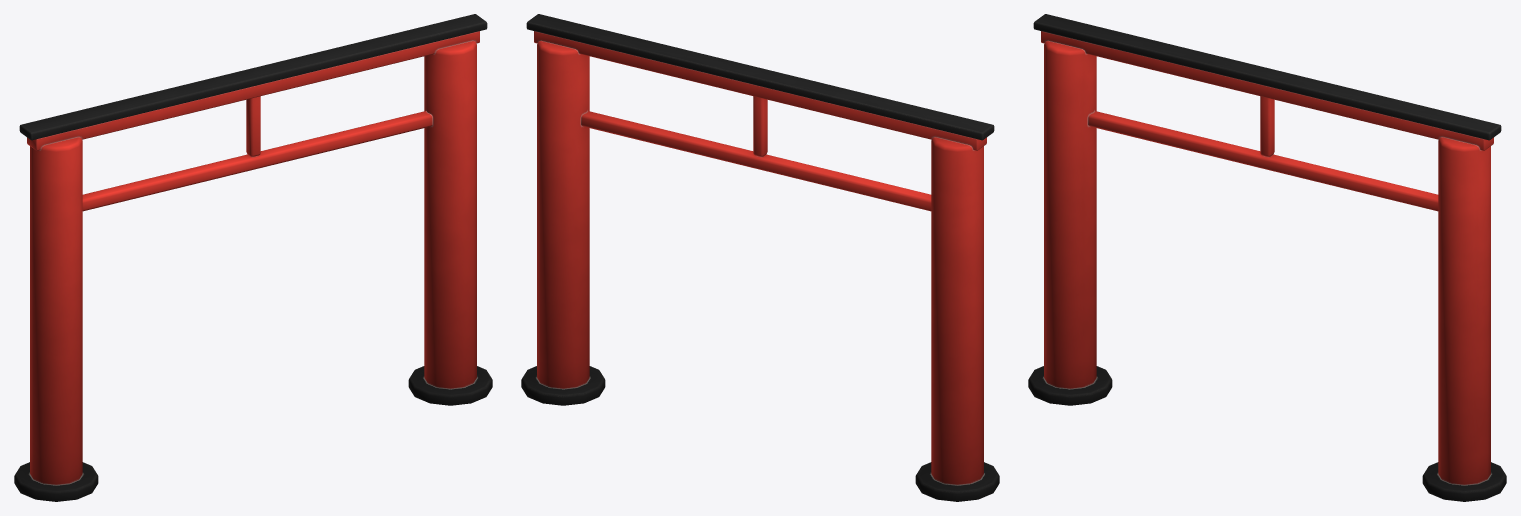
The model's file is cb_torii_gate.glb.
The picture shows the model from 3 angles, left to right: view 1: azimuth 30°, elevation 25°; view 2: azimuth 150°, elevation 25°; view 3: azimuth 330°, elevation 25°; orthographic projection.
Parts seen in each view (by area): view 1: cb_torii_gate; view 2: cb_torii_gate; view 3: cb_torii_gate.
Part boxes in pixels (x1,y1,x2,y2): cb_torii_gate: (14,14,492,501); cb_torii_gate: (521,14,999,501); cb_torii_gate: (1028,14,1506,501).
Bounding box in the file's own units: 11.25 × 8.37 × 1.75.
Materials: 2 (2 with a texture image).
